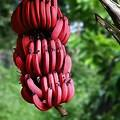banana: (17, 2, 81, 109)
